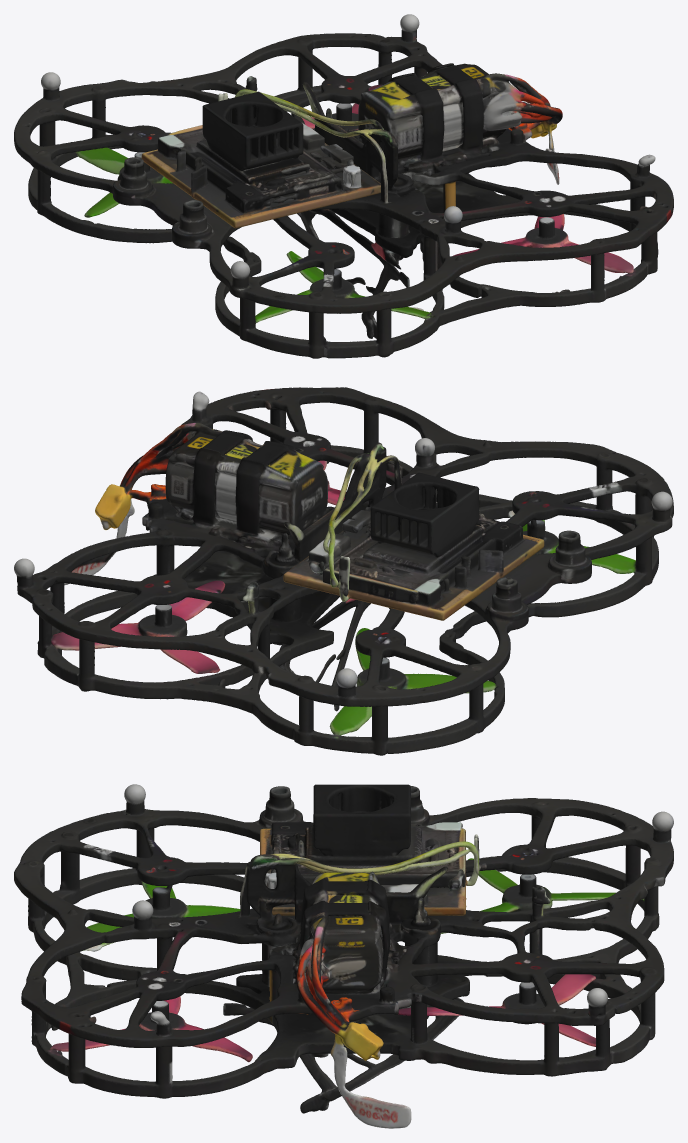
Rendered from quadcopter.glb.
The picture shows the model from 3 angles, top to bottom: view 1: azimuth 30°, elevation 25°; view 2: azimuth 150°, elevation 25°; view 3: azimuth 270°, elevation 25°; orthographic projection. The views are drawn at different scales.
Visible parts, largest first — view 1: tripo_node_658f76c8-9040-43ce-8fd3-d4d8ae83fa11; view 2: tripo_node_658f76c8-9040-43ce-8fd3-d4d8ae83fa11; view 3: tripo_node_658f76c8-9040-43ce-8fd3-d4d8ae83fa11.
Part boxes in pixels (x1,y1,x2,y2): tripo_node_658f76c8-9040-43ce-8fd3-d4d8ae83fa11: (14, 14, 673, 358); tripo_node_658f76c8-9040-43ce-8fd3-d4d8ae83fa11: (14, 387, 673, 755); tripo_node_658f76c8-9040-43ce-8fd3-d4d8ae83fa11: (14, 784, 673, 1128).
Size of the model in its own units: 0.8814 by 0.4319 by 1.
Materials: 1 (1 with a texture image).
